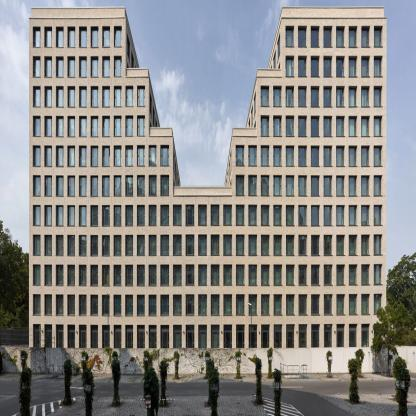Building Outline: (29, 6, 387, 374)
Dont: (0, 348, 416, 374), (371, 252, 416, 377)
Facade: (29, 186, 387, 374)
Floor: (29, 291, 387, 318), (29, 261, 387, 288), (29, 202, 387, 229), (29, 232, 387, 258), (232, 172, 387, 198), (232, 143, 387, 169), (29, 142, 173, 169), (29, 172, 173, 198), (257, 113, 387, 139), (257, 83, 387, 109), (282, 18, 386, 50), (29, 113, 149, 139), (29, 83, 149, 109), (29, 18, 125, 50), (282, 54, 386, 80), (29, 54, 125, 80)
Floor Slab: (29, 318, 387, 322), (29, 198, 387, 202), (29, 288, 387, 291), (29, 258, 387, 261), (29, 229, 387, 232), (232, 168, 387, 172), (257, 109, 387, 113), (257, 79, 387, 83), (29, 109, 149, 113), (29, 79, 149, 83), (232, 139, 387, 142), (29, 169, 173, 172), (29, 139, 173, 142), (282, 50, 386, 53), (29, 50, 125, 53)
Ground Floor: (29, 321, 387, 374)
Window: (324, 324, 333, 348), (349, 324, 358, 348), (361, 324, 370, 348), (173, 325, 182, 348), (198, 325, 207, 348), (211, 325, 220, 348), (248, 325, 257, 348), (261, 325, 270, 348), (286, 325, 295, 348), (311, 325, 320, 348), (374, 294, 383, 316), (298, 294, 307, 316), (336, 294, 345, 316), (361, 294, 370, 316), (374, 25, 383, 47), (298, 25, 307, 47), (336, 25, 345, 47), (248, 294, 257, 316), (374, 145, 383, 167), (298, 145, 307, 167), (336, 145, 345, 167), (361, 145, 370, 167), (374, 175, 383, 197), (298, 175, 307, 197), (336, 175, 345, 197), (361, 175, 370, 197), (374, 234, 383, 256), (298, 234, 307, 256), (336, 234, 345, 256), (361, 234, 370, 256), (273, 115, 282, 137), (273, 294, 282, 316), (261, 294, 270, 316), (248, 174, 257, 196), (273, 174, 282, 196), (248, 234, 257, 256), (273, 234, 282, 256), (261, 234, 270, 256), (248, 264, 257, 286), (273, 264, 282, 286), (261, 264, 270, 286), (90, 324, 98, 348), (374, 324, 382, 348), (337, 324, 345, 348), (374, 56, 383, 77), (298, 56, 307, 77), (336, 56, 345, 77), (298, 86, 307, 107), (336, 86, 345, 107), (361, 86, 370, 107), (374, 116, 383, 137), (298, 116, 307, 137), (336, 116, 345, 137), (361, 116, 370, 137), (374, 205, 383, 226), (298, 205, 307, 226), (336, 205, 345, 226), (361, 205, 370, 226), (374, 264, 383, 285), (298, 264, 307, 285), (336, 264, 345, 285), (361, 264, 370, 285), (273, 86, 282, 107), (248, 145, 257, 166), (273, 145, 282, 166), (248, 205, 257, 226), (273, 205, 282, 226), (261, 205, 270, 226), (223, 294, 232, 315), (198, 294, 207, 315), (223, 205, 232, 226), (198, 205, 207, 226), (223, 235, 232, 256), (198, 235, 207, 256), (223, 265, 232, 286), (198, 265, 207, 286), (44, 324, 52, 347), (67, 324, 75, 347), (79, 324, 87, 347), (102, 325, 110, 348), (137, 325, 145, 348), (125, 325, 133, 348), (161, 325, 169, 348), (186, 325, 194, 348), (224, 325, 232, 348), (236, 325, 244, 348), (274, 325, 282, 348), (299, 325, 307, 348), (286, 294, 294, 316), (311, 294, 319, 316), (324, 294, 332, 316), (349, 294, 357, 316), (286, 25, 294, 47), (311, 25, 319, 47), (324, 25, 332, 47), (349, 25, 357, 47), (362, 25, 370, 47), (286, 145, 294, 167), (311, 145, 319, 167), (324, 145, 332, 167), (349, 145, 357, 167), (286, 175, 294, 197), (311, 175, 319, 197), (324, 175, 332, 197), (349, 175, 357, 197), (286, 234, 294, 256), (311, 234, 319, 256), (324, 234, 332, 256), (349, 234, 357, 256), (236, 294, 244, 316), (261, 115, 269, 137), (236, 174, 244, 196), (261, 174, 269, 196), (236, 234, 244, 256), (236, 264, 244, 286), (114, 27, 122, 48), (44, 27, 52, 48), (67, 27, 75, 48), (79, 27, 87, 48), (114, 57, 122, 78), (44, 57, 52, 78), (67, 57, 75, 78), (79, 57, 87, 78), (44, 86, 52, 107), (67, 86, 75, 107), (79, 86, 87, 107), (114, 116, 122, 137), (44, 116, 52, 137), (67, 116, 75, 137), (79, 116, 87, 137), (114, 146, 122, 167), (44, 146, 52, 167), (67, 146, 75, 167), (79, 146, 87, 167), (114, 175, 122, 196), (44, 175, 52, 196), (67, 175, 75, 196), (79, 175, 87, 196), (114, 205, 122, 226), (44, 205, 52, 226), (67, 205, 75, 226), (79, 205, 87, 226), (114, 236, 122, 257), (44, 236, 52, 257), (67, 236, 75, 257), (79, 236, 87, 257), (114, 265, 122, 286), (44, 265, 52, 286), (67, 265, 75, 286), (79, 265, 87, 286), (114, 295, 122, 316), (44, 295, 52, 316), (67, 295, 75, 316), (79, 295, 87, 316), (286, 56, 294, 77), (311, 56, 319, 77), (324, 56, 332, 77), (349, 56, 357, 77), (362, 56, 370, 77), (374, 86, 382, 107), (311, 86, 319, 107), (324, 86, 332, 107), (349, 86, 357, 107), (286, 116, 294, 137), (311, 116, 319, 137), (324, 116, 332, 137), (349, 116, 357, 137), (286, 205, 294, 226), (311, 205, 319, 226), (324, 205, 332, 226), (349, 205, 357, 226), (286, 264, 294, 285), (311, 264, 319, 285), (324, 264, 332, 285), (349, 264, 357, 285), (114, 86, 122, 107), (137, 86, 145, 107), (125, 86, 133, 107), (137, 116, 145, 137), (125, 116, 133, 137), (161, 146, 169, 167), (137, 146, 145, 167), (125, 146, 133, 167), (286, 86, 294, 107), (261, 86, 269, 107), (236, 145, 244, 166), (261, 145, 269, 166), (236, 205, 244, 226), (161, 175, 169, 196), (137, 175, 145, 196), (125, 175, 133, 196), (137, 205, 145, 226), (125, 205, 133, 226), (161, 235, 169, 256), (137, 235, 145, 256), (125, 235, 133, 256), (161, 265, 169, 286), (137, 265, 145, 286), (125, 265, 133, 286), (161, 295, 169, 316), (137, 295, 145, 316), (125, 295, 133, 316), (161, 205, 169, 226), (173, 294, 181, 315), (186, 294, 194, 315), (211, 294, 219, 315), (173, 205, 181, 226), (186, 205, 194, 226), (211, 205, 219, 226), (173, 235, 181, 256), (186, 235, 194, 256), (211, 235, 219, 256), (173, 265, 181, 286), (186, 265, 194, 286), (211, 265, 219, 286), (149, 324, 156, 348), (33, 324, 40, 347), (56, 324, 63, 347), (114, 325, 121, 348), (33, 27, 40, 48), (56, 27, 63, 48), (91, 27, 98, 48), (103, 27, 110, 48), (33, 57, 40, 78), (56, 57, 63, 78), (91, 57, 98, 78), (103, 57, 110, 78), (33, 86, 40, 107), (56, 86, 63, 107), (91, 86, 98, 107), (103, 86, 110, 107), (33, 116, 40, 137), (56, 116, 63, 137), (91, 116, 98, 137), (103, 116, 110, 137), (33, 146, 40, 167), (56, 146, 63, 167), (91, 146, 98, 167), (103, 146, 110, 167), (33, 175, 40, 196), (56, 175, 63, 196), (91, 175, 98, 196), (103, 175, 110, 196), (33, 205, 40, 226), (56, 205, 63, 226), (91, 205, 98, 226), (103, 205, 110, 226), (33, 236, 40, 257), (56, 236, 63, 257), (91, 236, 98, 257), (103, 236, 110, 257), (33, 265, 40, 286), (56, 265, 63, 286), (91, 265, 98, 286), (103, 265, 110, 286), (56, 295, 63, 316), (91, 295, 98, 316), (103, 295, 110, 316), (149, 146, 156, 167), (149, 175, 156, 196), (149, 205, 156, 226), (149, 235, 156, 256), (149, 265, 156, 286), (33, 295, 40, 316), (149, 295, 156, 316)
